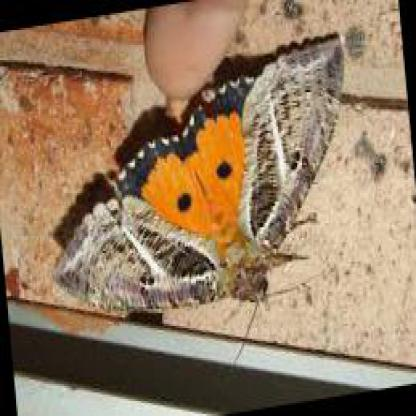fruit sucking moth: (53, 36, 344, 314)
